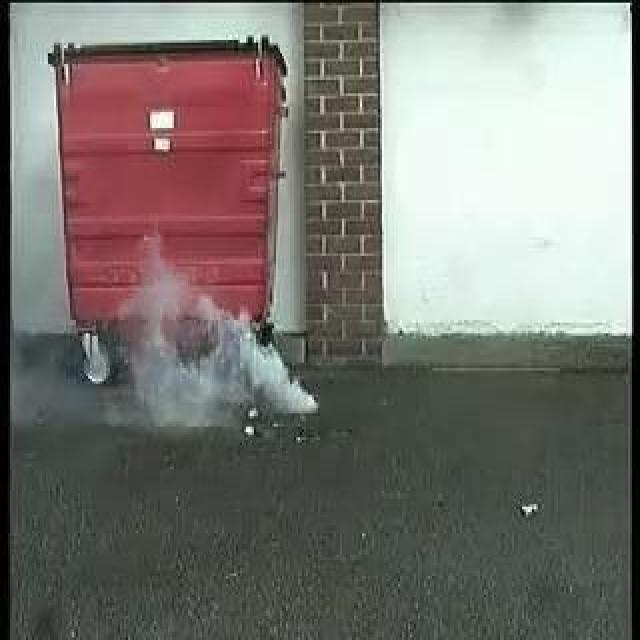Smoke: (128, 248, 318, 416)
